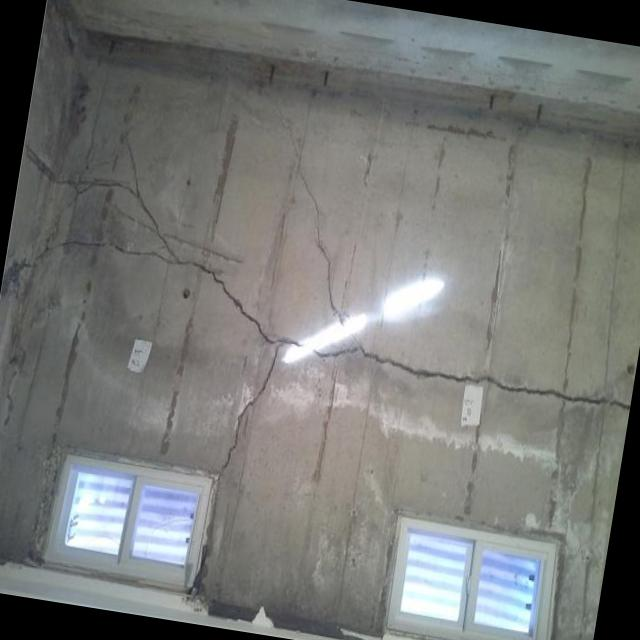crack: (45, 240, 356, 360), (193, 346, 280, 594), (25, 131, 175, 255), (366, 352, 628, 412), (297, 175, 368, 354)
